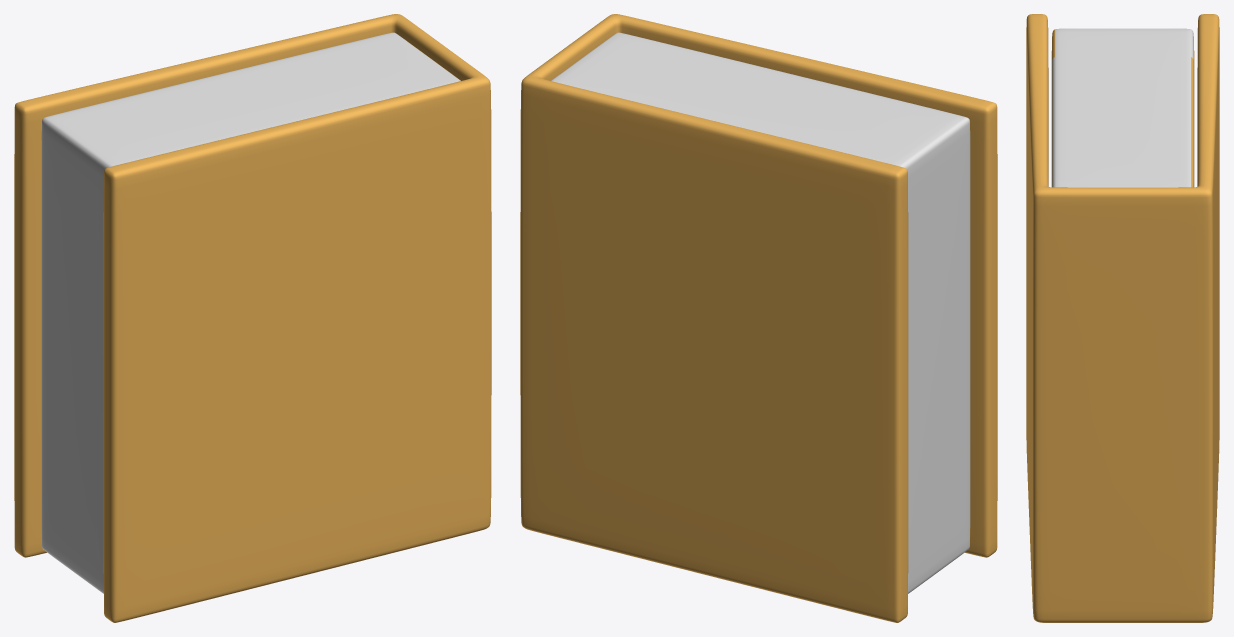
File: Book03.fbx
The picture shows the model from 3 angles, left to right: view 1: azimuth 30°, elevation 25°; view 2: azimuth 150°, elevation 25°; view 3: azimuth 270°, elevation 25°; orthographic projection. The views are drawn at different scales.
Parts seen in each view (by area): view 1: Plane.016; view 2: Plane.016; view 3: Plane.016.
Part boxes in pixels (x1,y1,x2,y2): Plane.016: [14, 14, 491, 622]; Plane.016: [520, 14, 997, 622]; Plane.016: [1026, 14, 1219, 622].
Size of the model in its own units: 131 by 147 by 59.45.
